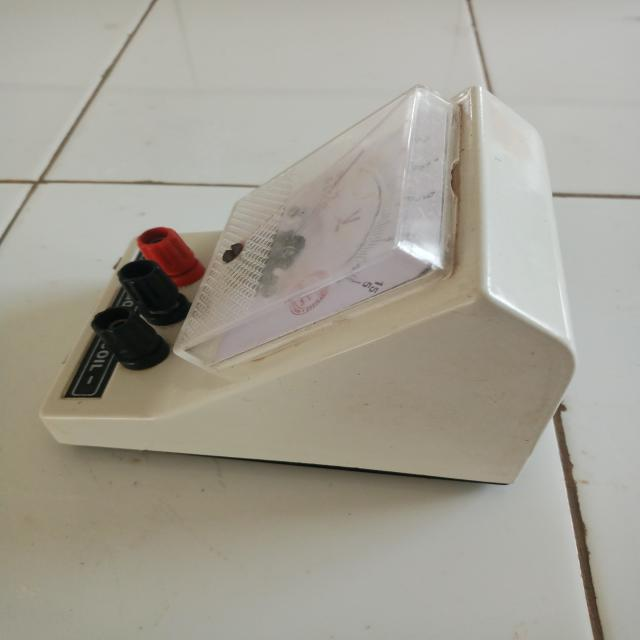Analog Voltmeter: (32, 76, 591, 497)
